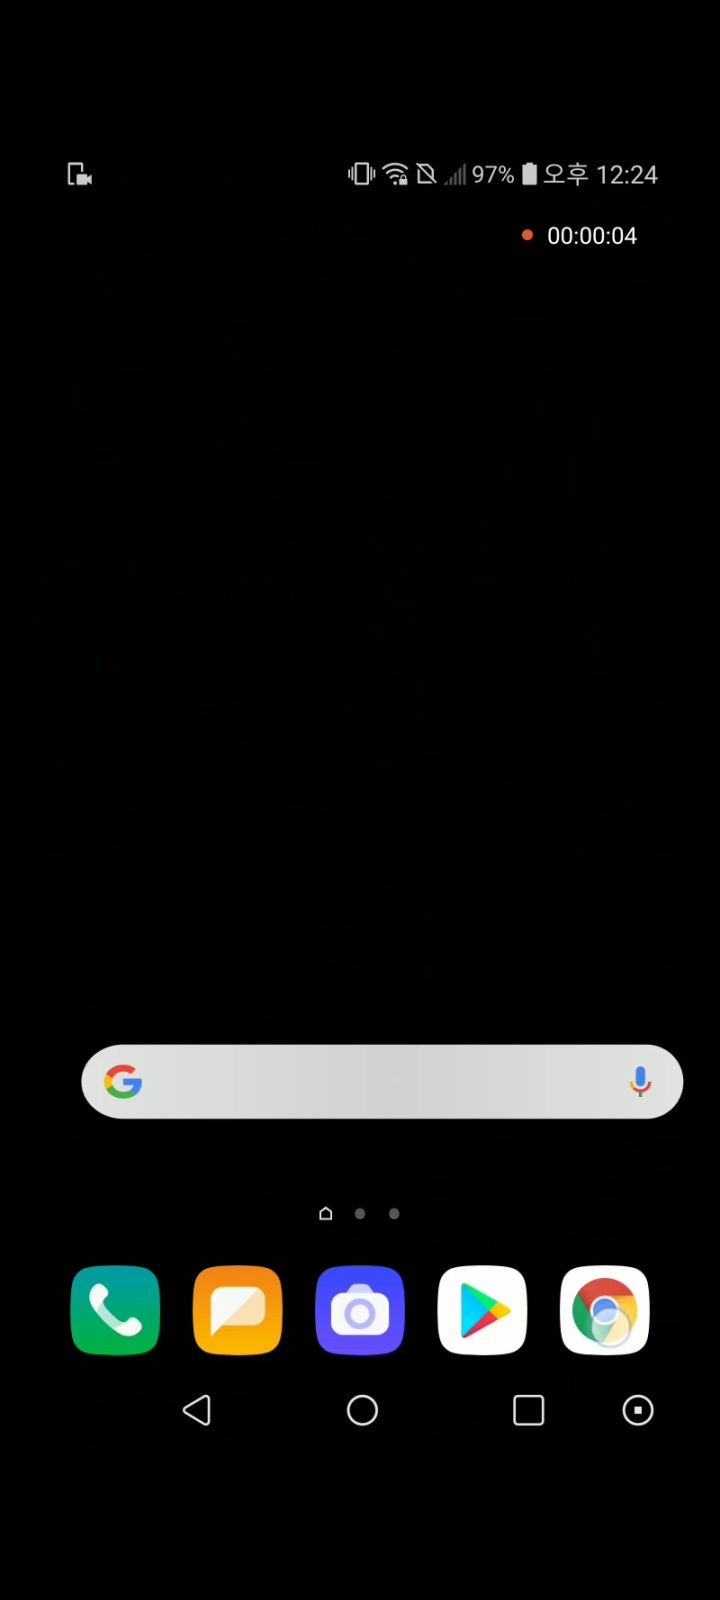Cursor: (588, 1306, 633, 1351)
